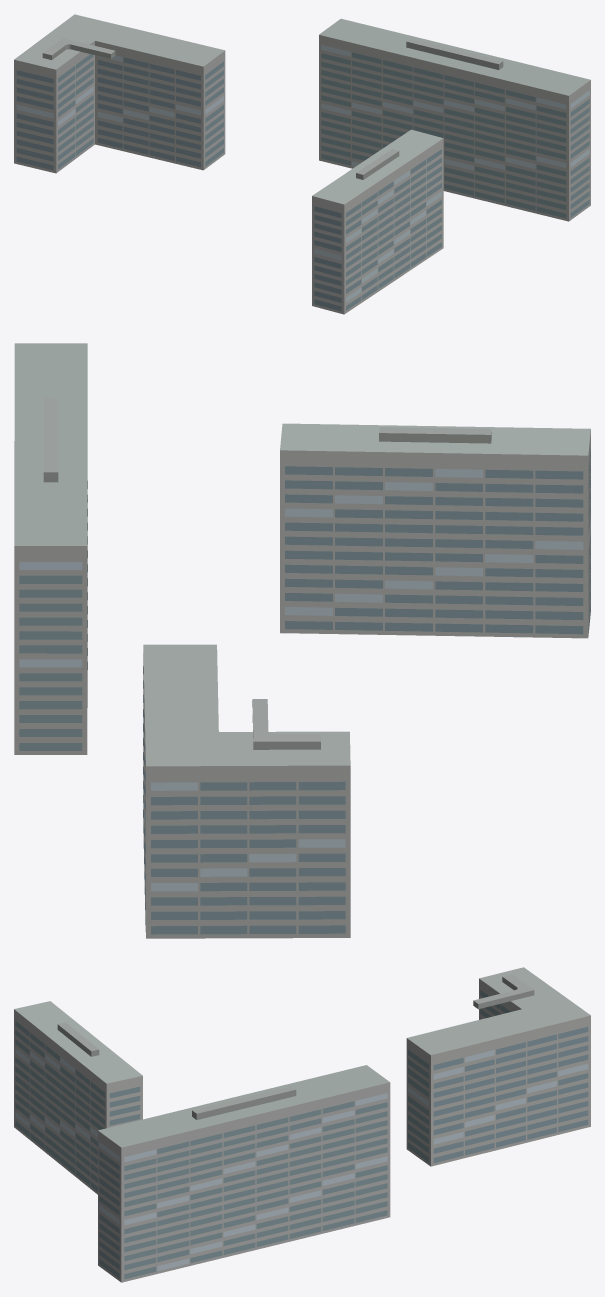
File: apt-a10023665.glb
3 views of the same model, one above another, from view 1: azimuth 30°, elevation 25°; view 2: azimuth 150°, elevation 25°; view 3: azimuth 270°, elevation 25° (orthographic). The views are drawn at different scales.
Visible parts, largest first — view 1: apt-a10023665; view 2: apt-a10023665; view 3: apt-a10023665.
Part boxes in pixels (x1=…): apt-a10023665: x1=14, y1=14, x2=590, y2=314; apt-a10023665: x1=14, y1=343, x2=590, y2=938; apt-a10023665: x1=14, y1=967, x2=590, y2=1282.
Size of the model in its own units: 124 by 40 by 148.
